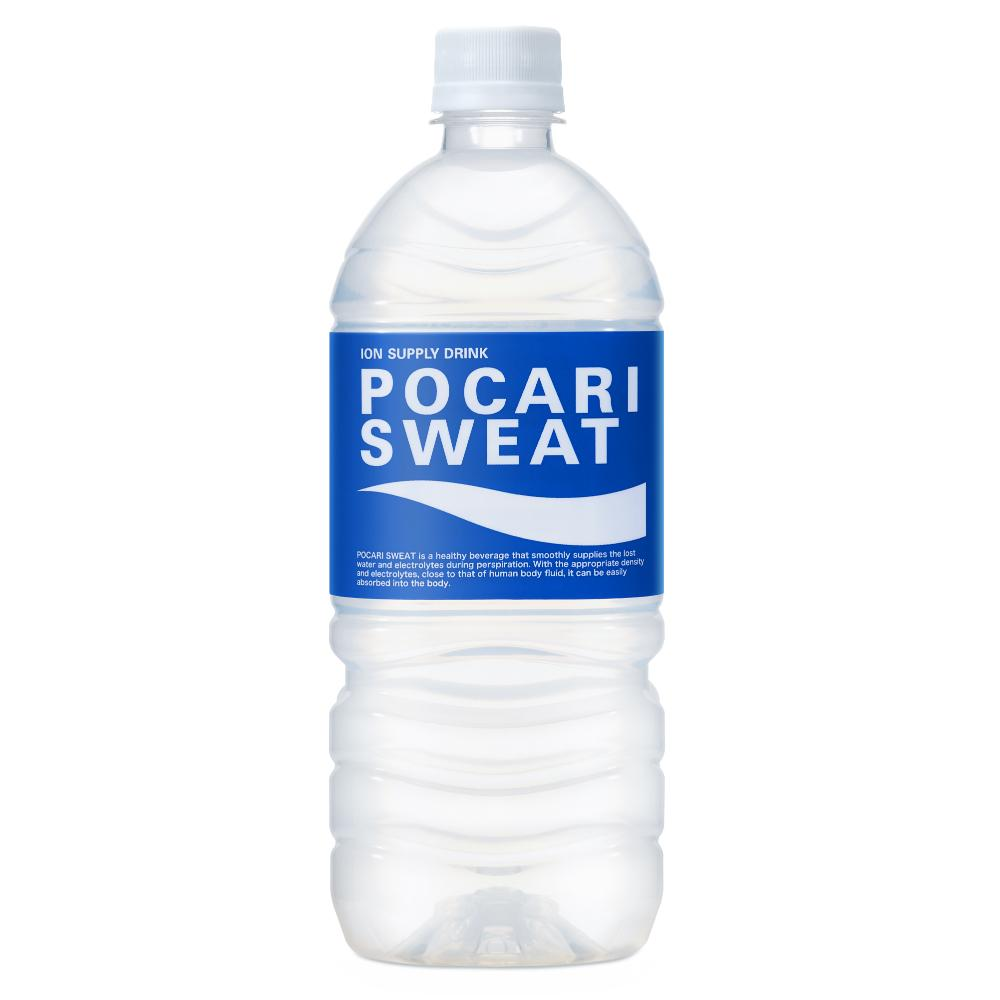plastic_bottle: (315, 25, 676, 971)
